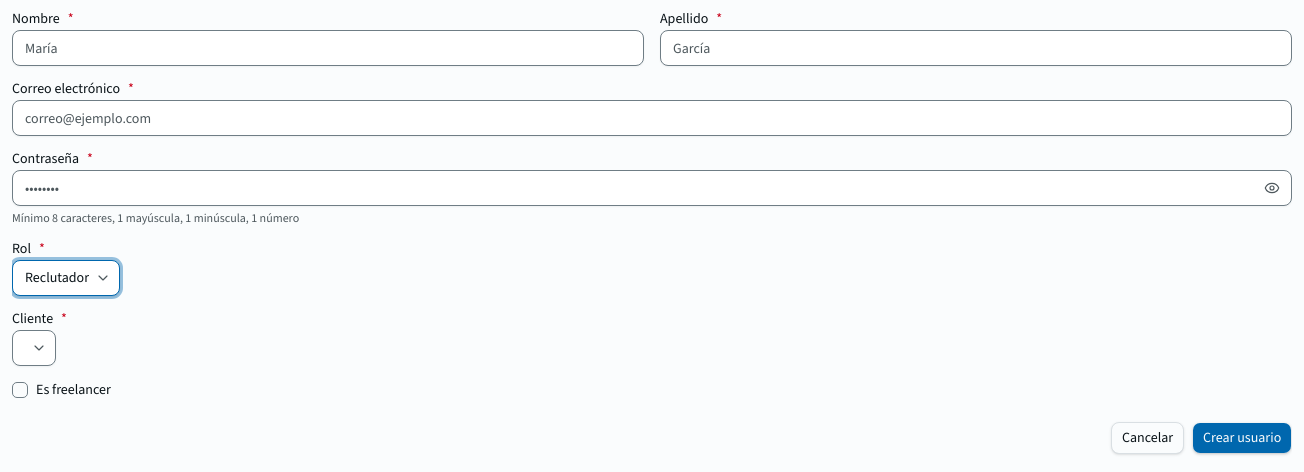
Scenario: CreateUserForm — Cliente field visibility per role (US1 + US3) › HIDES the Cliente select when role is manager
Press Enter
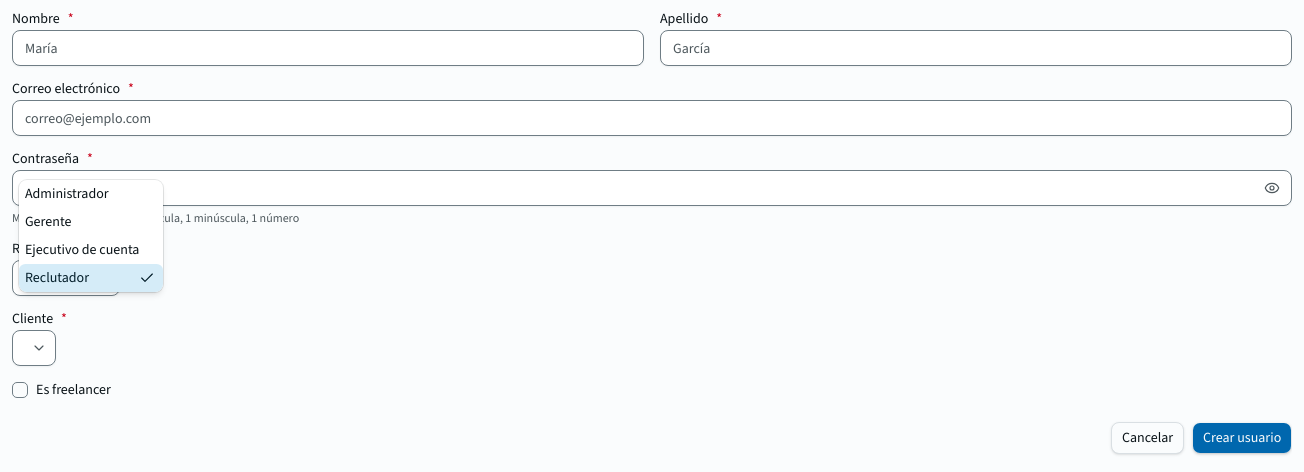
Click the option "Gerente". click: (48, 222)
box: [25,212,71,231]
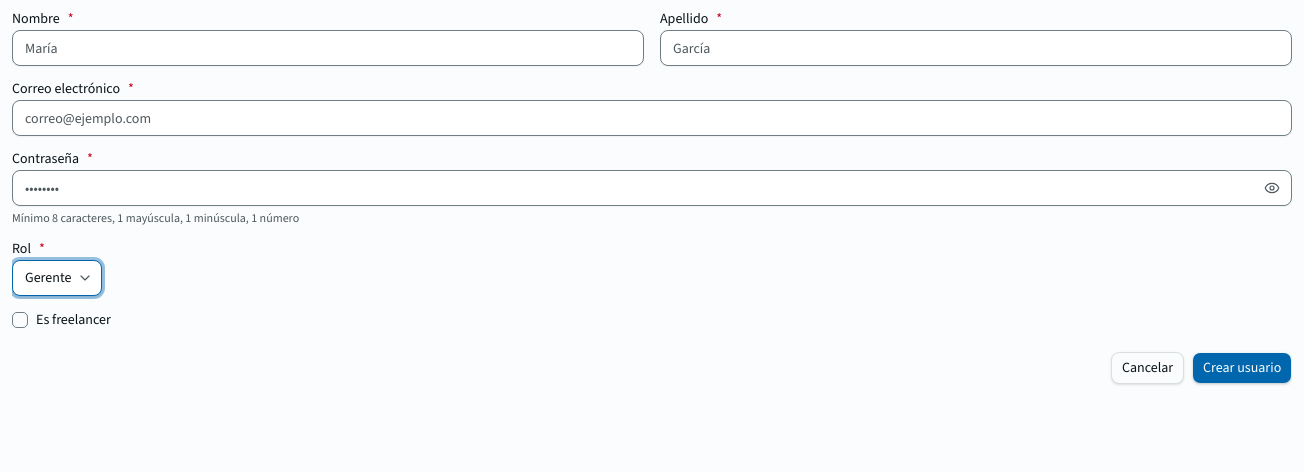
Now the dropdown with test id "select-rol" reads "Gerente ▼", box [12,260,102,296]
